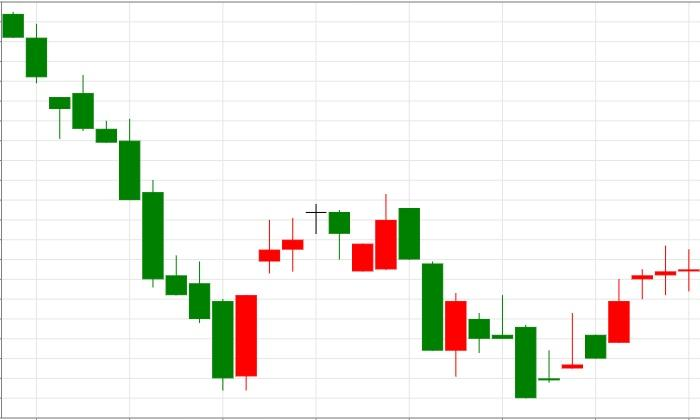bullish_engulfing_rise: (3, 11, 257, 390)
